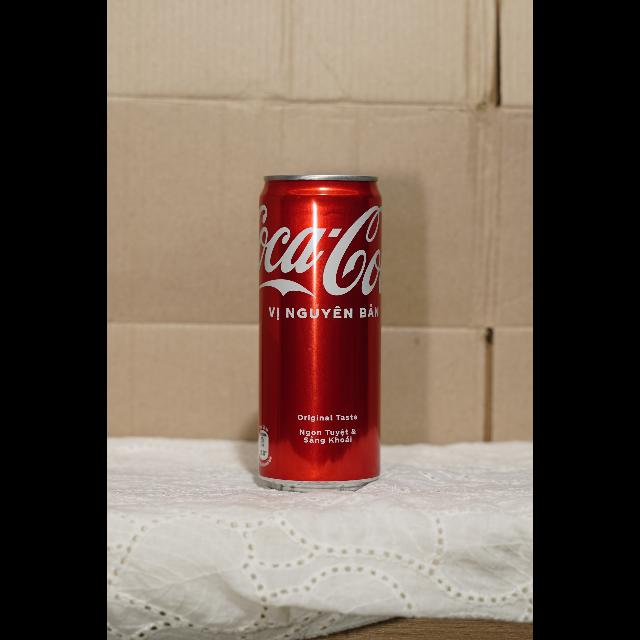coca_cola: (257, 174, 383, 492)
